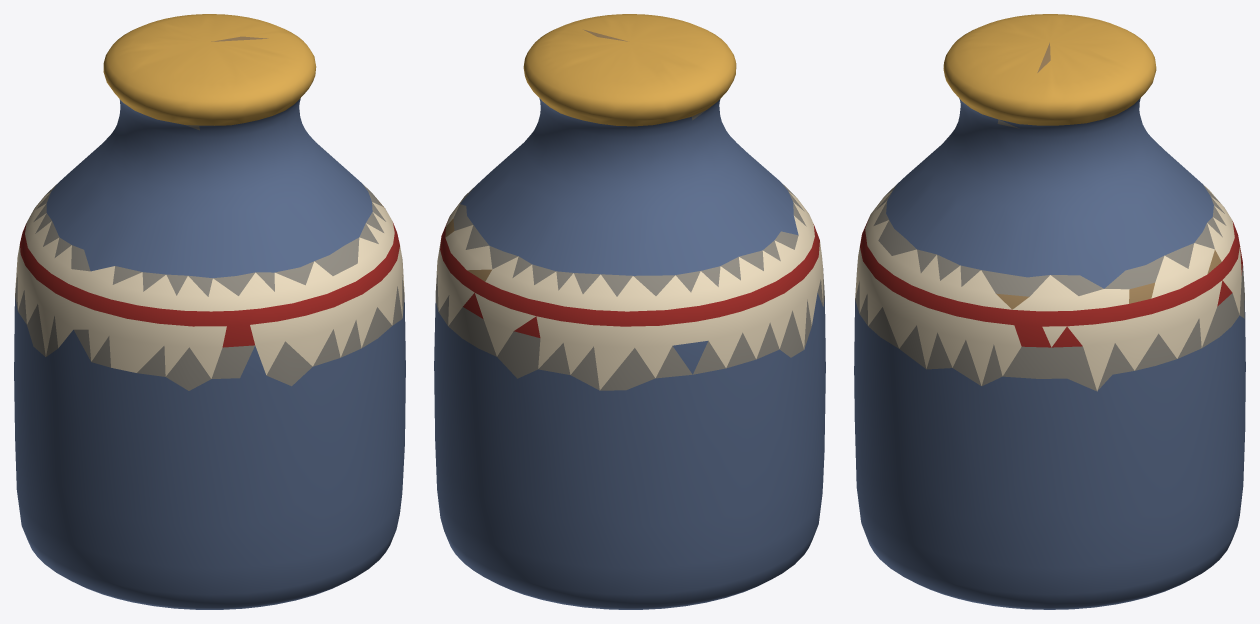
The model's file is milk_churn.glb.
The picture shows the model from 3 angles, left to right: view 1: azimuth 30°, elevation 25°; view 2: azimuth 150°, elevation 25°; view 3: azimuth 270°, elevation 25°; orthographic projection.
Parts seen in each view (by area): view 1: milk_churn; view 2: milk_churn; view 3: milk_churn.
Boxes of the visible parts, box(x1,y1,x2,y2) form: milk_churn: box(14, 14, 405, 609); milk_churn: box(434, 14, 825, 609); milk_churn: box(854, 14, 1245, 609).
Size of the model in its own units: 0.5694 by 0.8001 by 0.5703.
